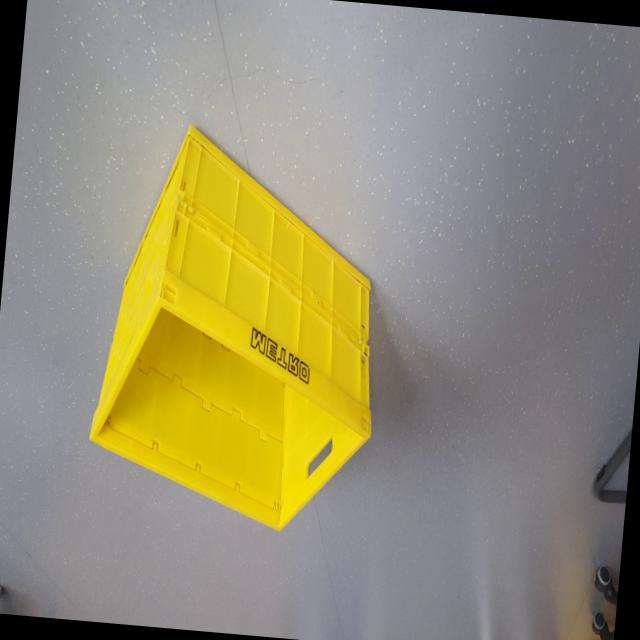box: (72, 108, 402, 543)
